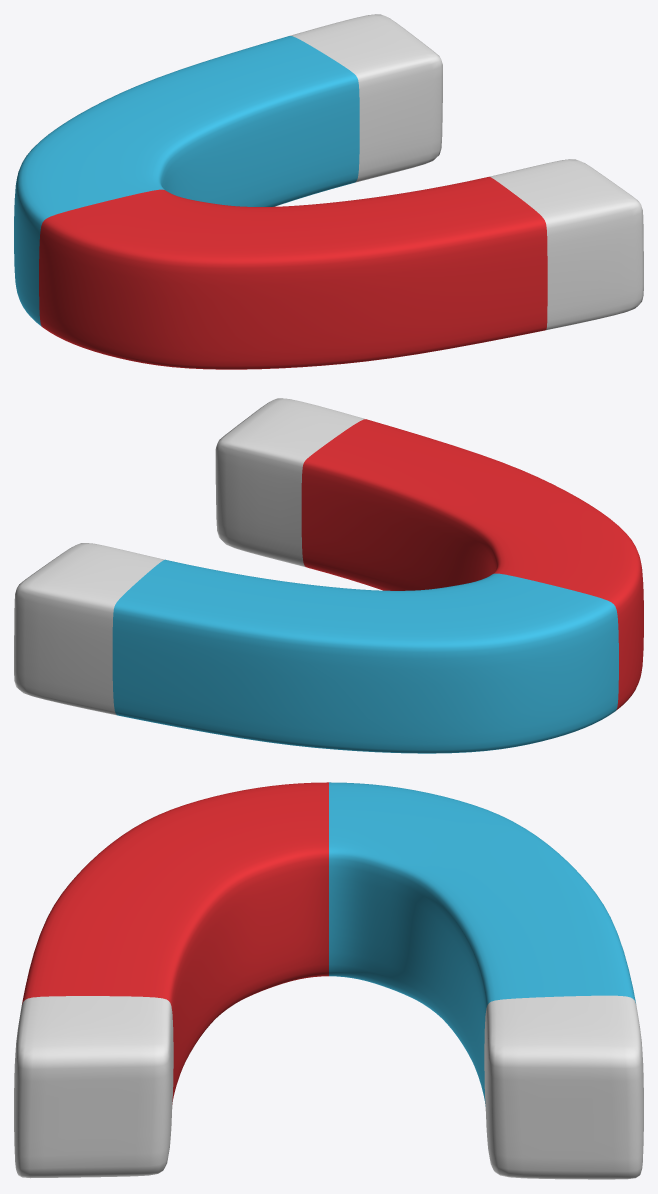
Rendered from iman 1.fbx.
3 renders of one model, top to bottom at view 1: azimuth 30°, elevation 25°; view 2: azimuth 150°, elevation 25°; view 3: azimuth 270°, elevation 25°, orthographic. The views are drawn at different scales.
Visible parts, largest first — view 1: Circle; view 2: Circle; view 3: Circle.
Part boxes in pixels (box(x1,y1,x2,y2)): Circle: box(14, 14, 643, 369); Circle: box(14, 398, 643, 753); Circle: box(14, 782, 643, 1179).
Size of the model in its own units: 1.4 by 0.3205 by 1.35.
